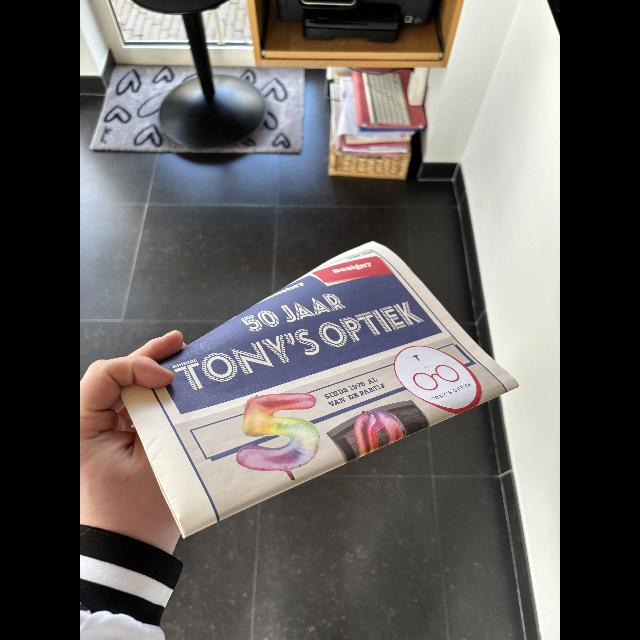Paper: (122, 241, 520, 539)
